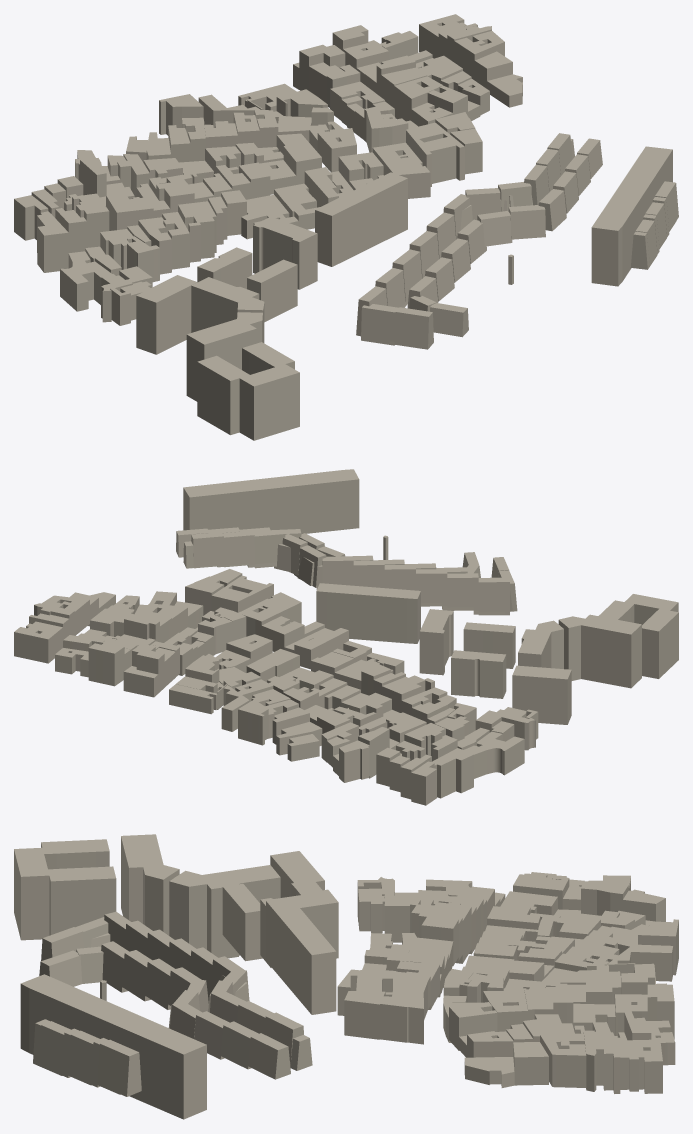
File: bormla_61_30_far.glb
The picture shows the model from 3 angles, top to bottom: view 1: azimuth 30°, elevation 25°; view 2: azimuth 150°, elevation 25°; view 3: azimuth 270°, elevation 25°; orthographic projection. The views are drawn at different scales.
Parts seen in each view (by area): view 1: geometry_0; view 2: geometry_0; view 3: geometry_0.
Boxes of the visible parts, box(x1,y1,x2,y2) form: geometry_0: box(14, 14, 678, 440); geometry_0: box(14, 469, 678, 805); geometry_0: box(14, 834, 678, 1119).
Size of the model in its own units: 198 by 44.06 by 192.
